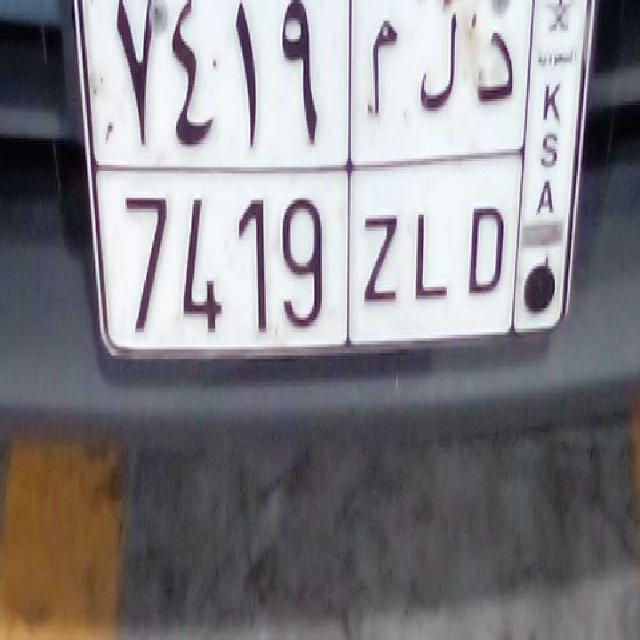license_plate: (95, 161, 520, 346)
